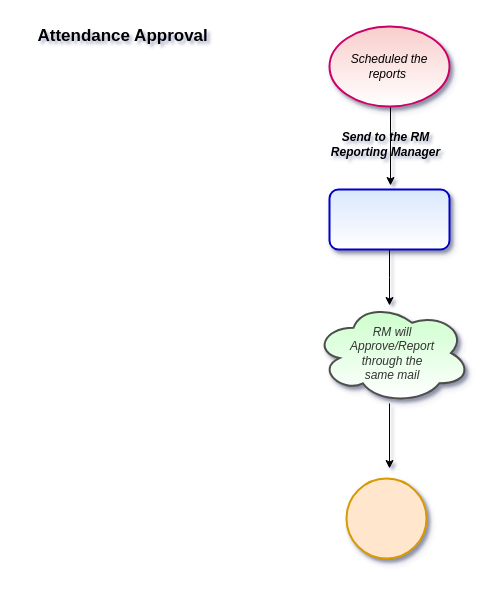
Image size: 500x589. Some labels were removed from this diagram. The centre of each missing label's shape, as x and y in pixels:
"Department Wise" goes at [390,220].
"Sent to the HR" goes at [387,519].
